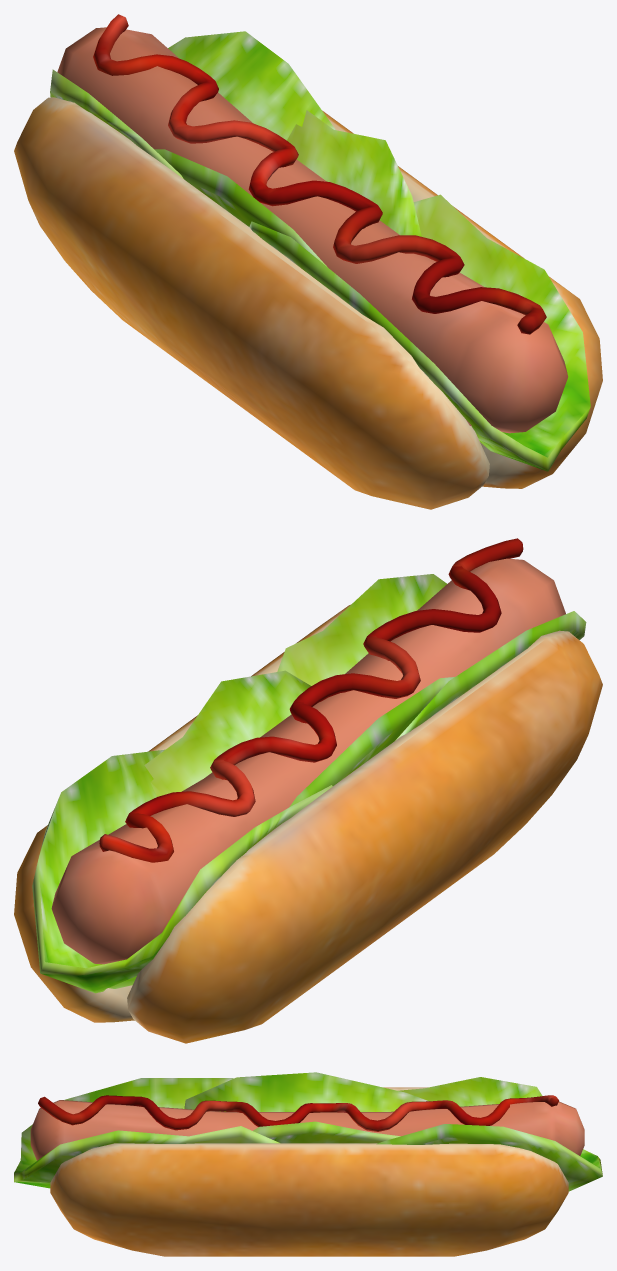
File: hotdog_1.fbx
3 renders of one model, top to bottom at view 1: azimuth 30°, elevation 25°; view 2: azimuth 150°, elevation 25°; view 3: azimuth 270°, elevation 25°, orthographic. The views are drawn at different scales.
Visible parts, largest first — view 1: hotdog_1; view 2: hotdog_1; view 3: hotdog_1.
Boxes of the visible parts, <box> form: hotdog_1: <box>14,14,602,509</box>; hotdog_1: <box>14,538,602,1043</box>; hotdog_1: <box>14,1072,602,1256</box>.
Bounding box in the file's own units: 7.19 × 5.5 × 20.46.
